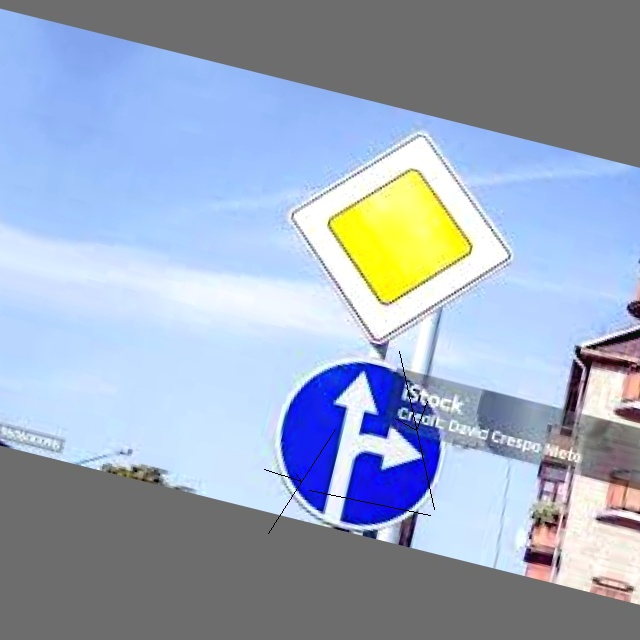Compulsory_Ahead_or_Turn_Right: (261, 343, 454, 539)
